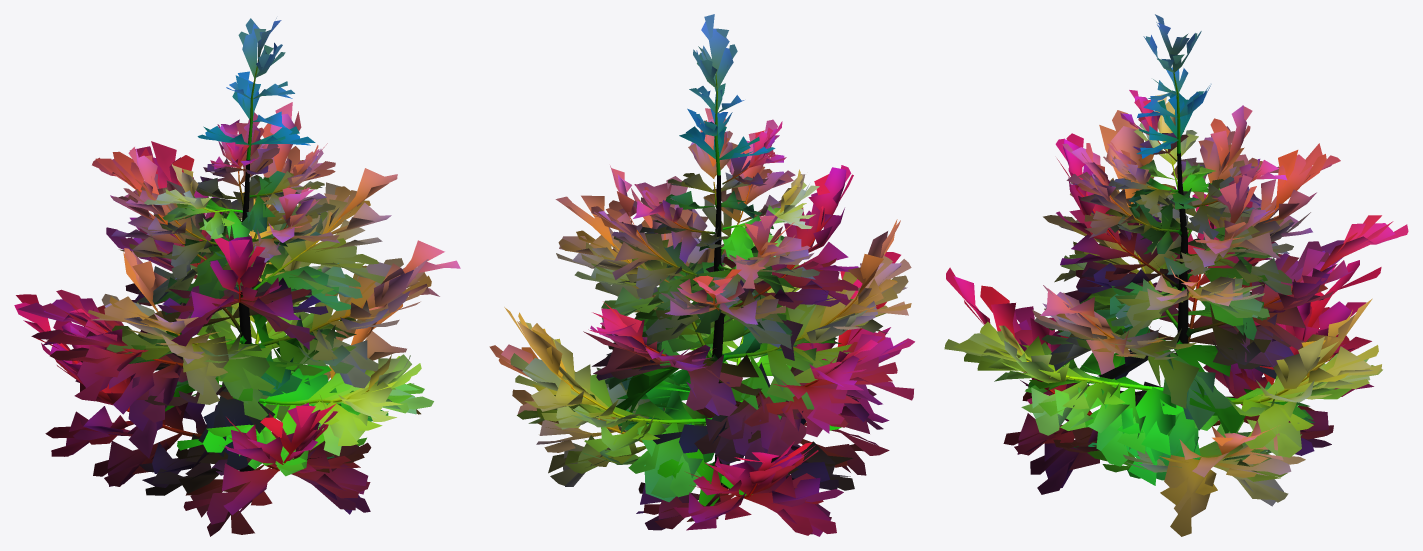
File: SM_SilverFir_S_01.fbx
The picture shows the model from 3 angles, left to right: view 1: azimuth 30°, elevation 25°; view 2: azimuth 150°, elevation 25°; view 3: azimuth 270°, elevation 25°; orthographic projection.
Parts seen in each view (by area): view 1: SM_SilverFir_S_01_LOD0; view 2: SM_SilverFir_S_01_LOD0; view 3: SM_SilverFir_S_01_LOD0.
Boxes of the visible parts, bbox=[...] form: SM_SilverFir_S_01_LOD0: bbox=[14, 18, 460, 536]; SM_SilverFir_S_01_LOD0: bbox=[489, 14, 914, 536]; SM_SilverFir_S_01_LOD0: bbox=[944, 14, 1408, 536].
Size of the model in its own units: 301 by 319 by 356.
